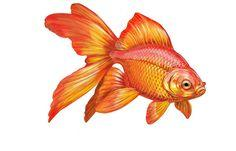goldfish: (56, 16, 213, 131)
